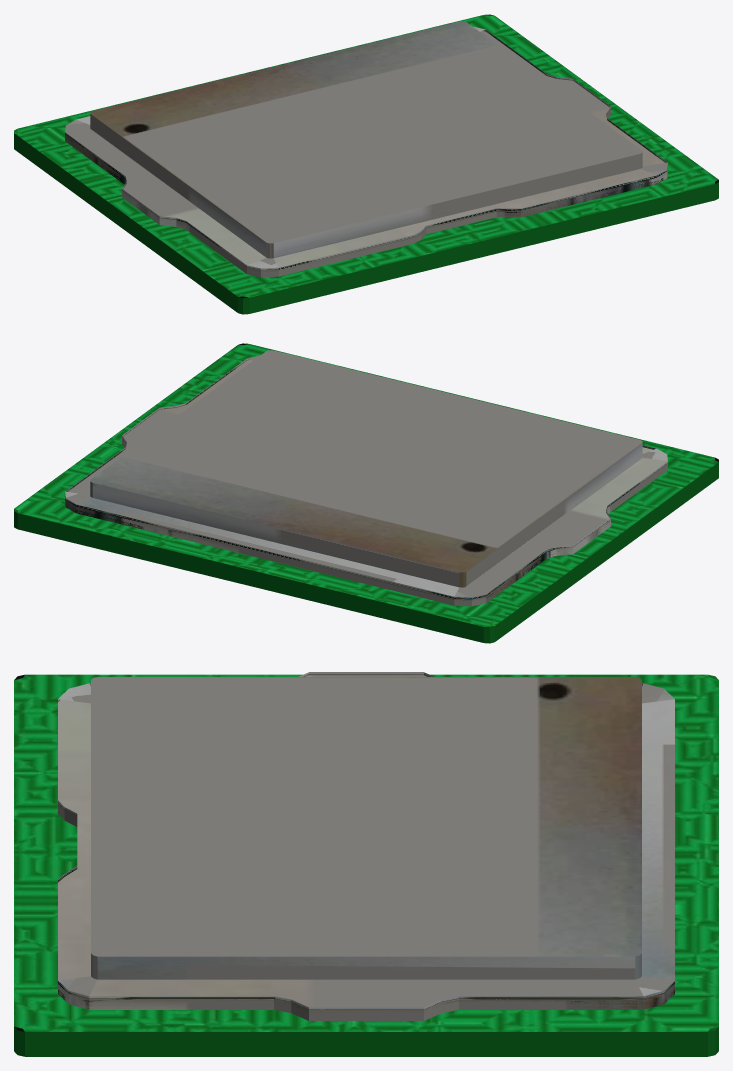
The model's file is cpu-intel-lga_lod2.glb.
3 renders of one model, top to bottom at view 1: azimuth 30°, elevation 25°; view 2: azimuth 150°, elevation 25°; view 3: azimuth 270°, elevation 25°, orthographic. The views are drawn at different scales.
Visible parts, largest first — view 1: body; view 2: body; view 3: body.
Part boxes in pixels (x1,y1,x2,y2): body: (14, 14, 718, 314); body: (14, 343, 718, 643); body: (14, 672, 718, 1056).
Bounding box in the file's own units: 0.045 × 0.0045 × 0.0375.
8 materials, 2 textured.
